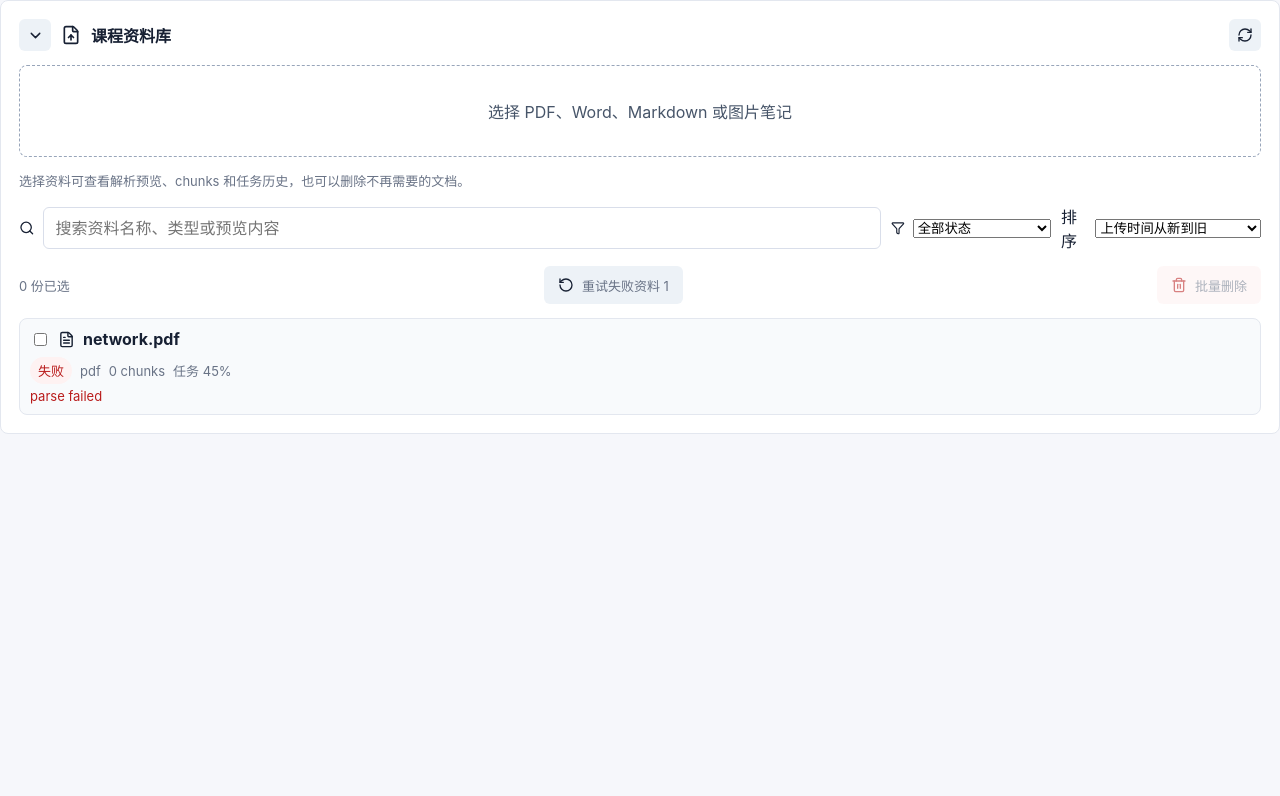
Scenario: UploadPanel › loads and renders document job history when a document is selected
Click the list item with class "document-row": point(640, 366) [19, 318, 1261, 415]
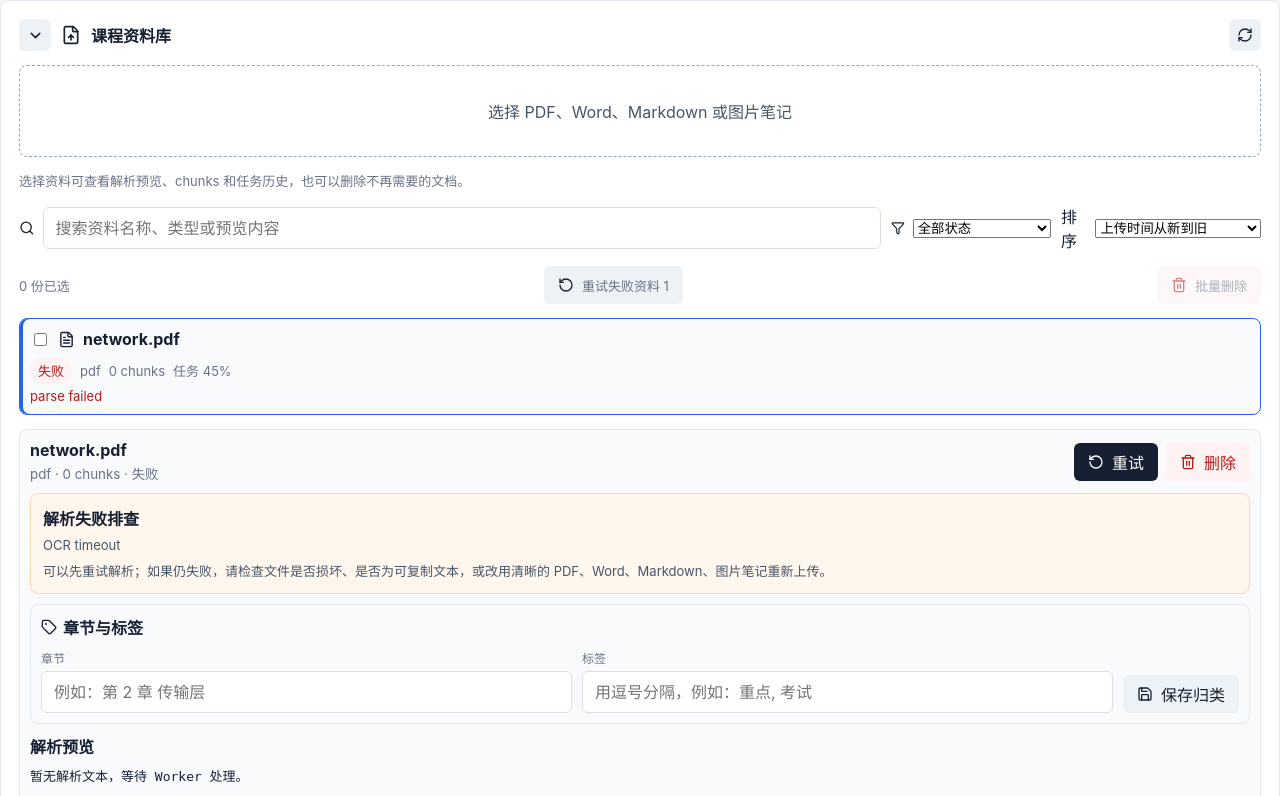
Expected: the text "45%" is shown, [173, 363, 232, 379]
Expected: the text "OCR timeout" is shown, [43, 537, 121, 553]
